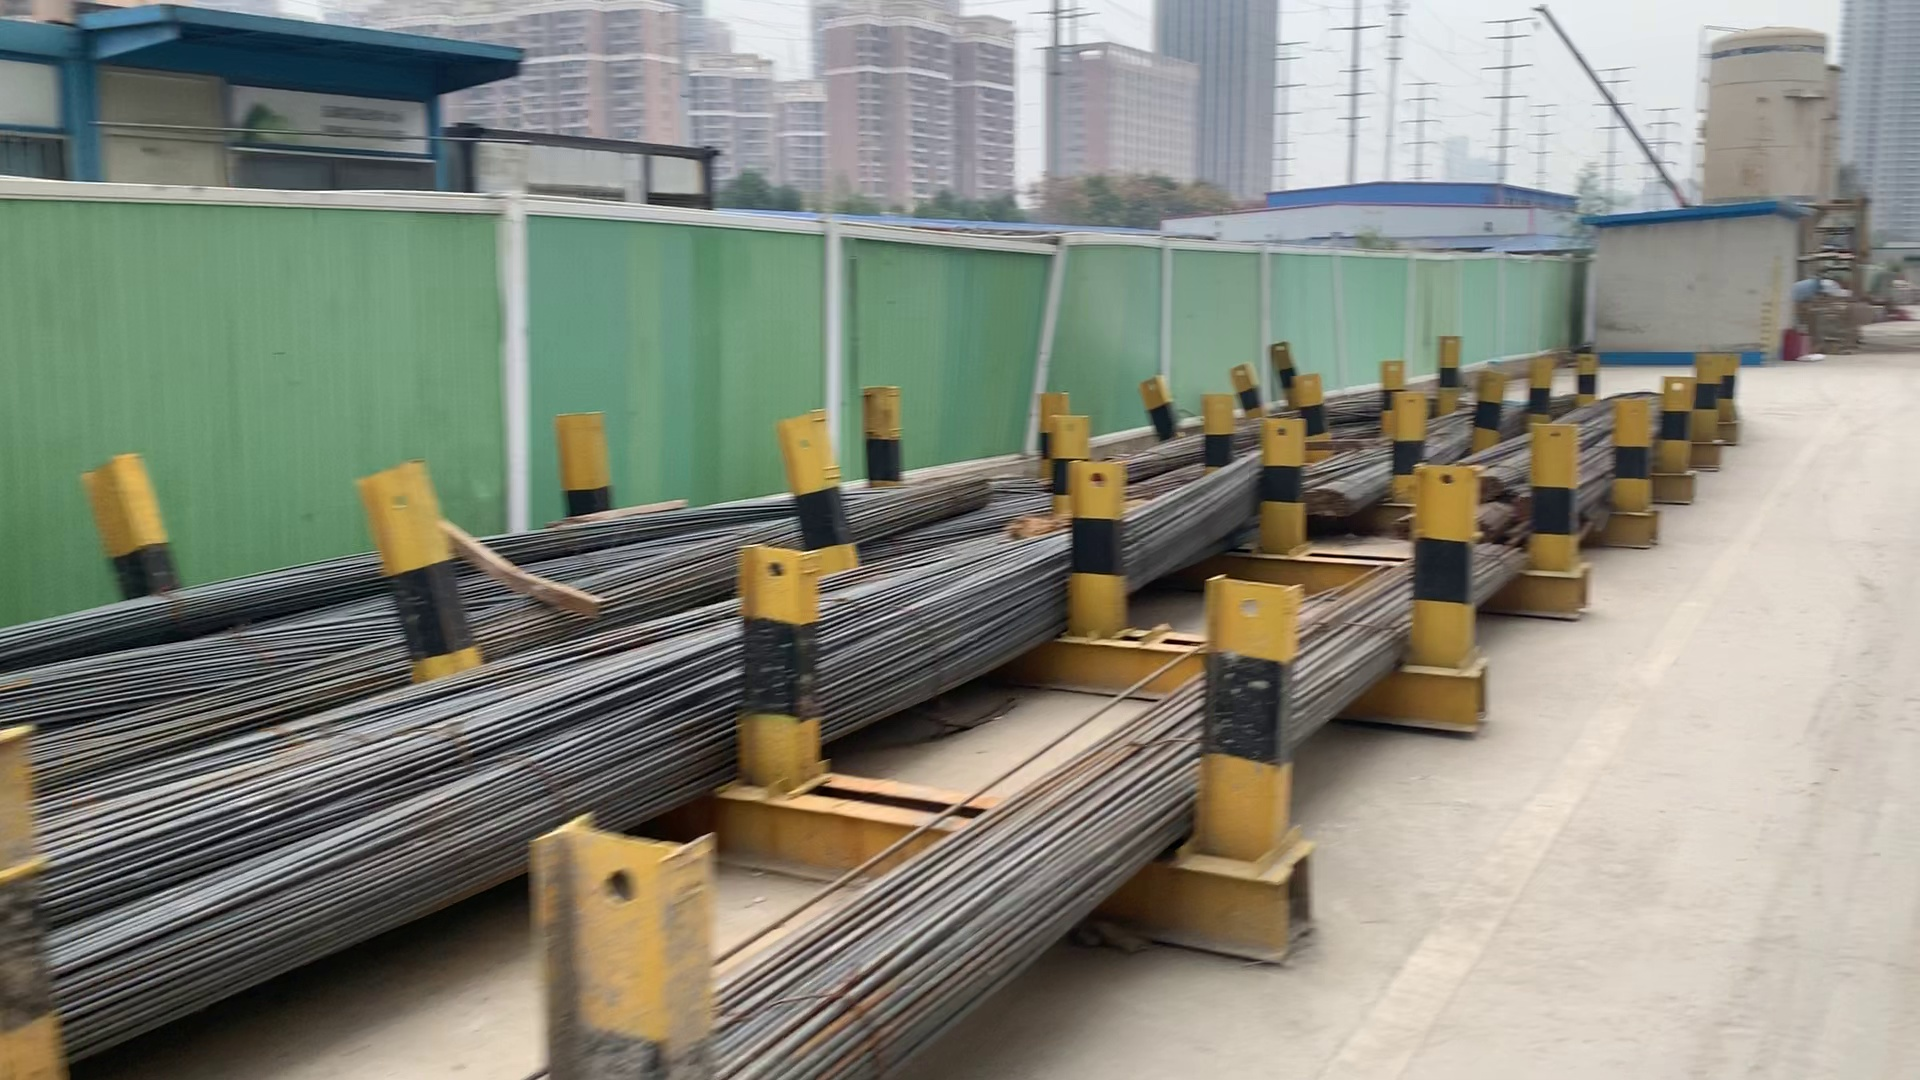rebar: (1307, 480, 1354, 516)
